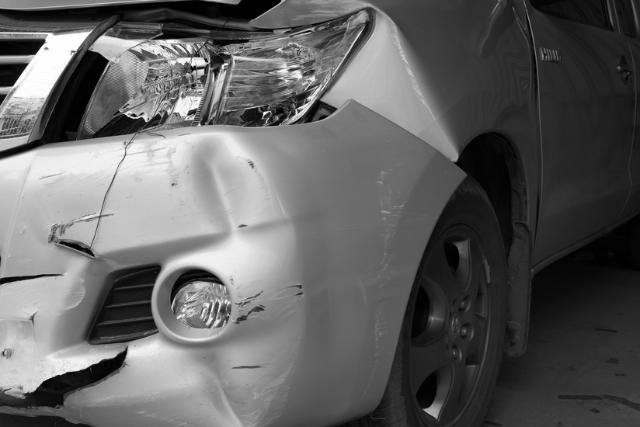Bumper: (3, 129, 359, 415)
Fender: (358, 0, 533, 138)
Light: (80, 28, 354, 131)
